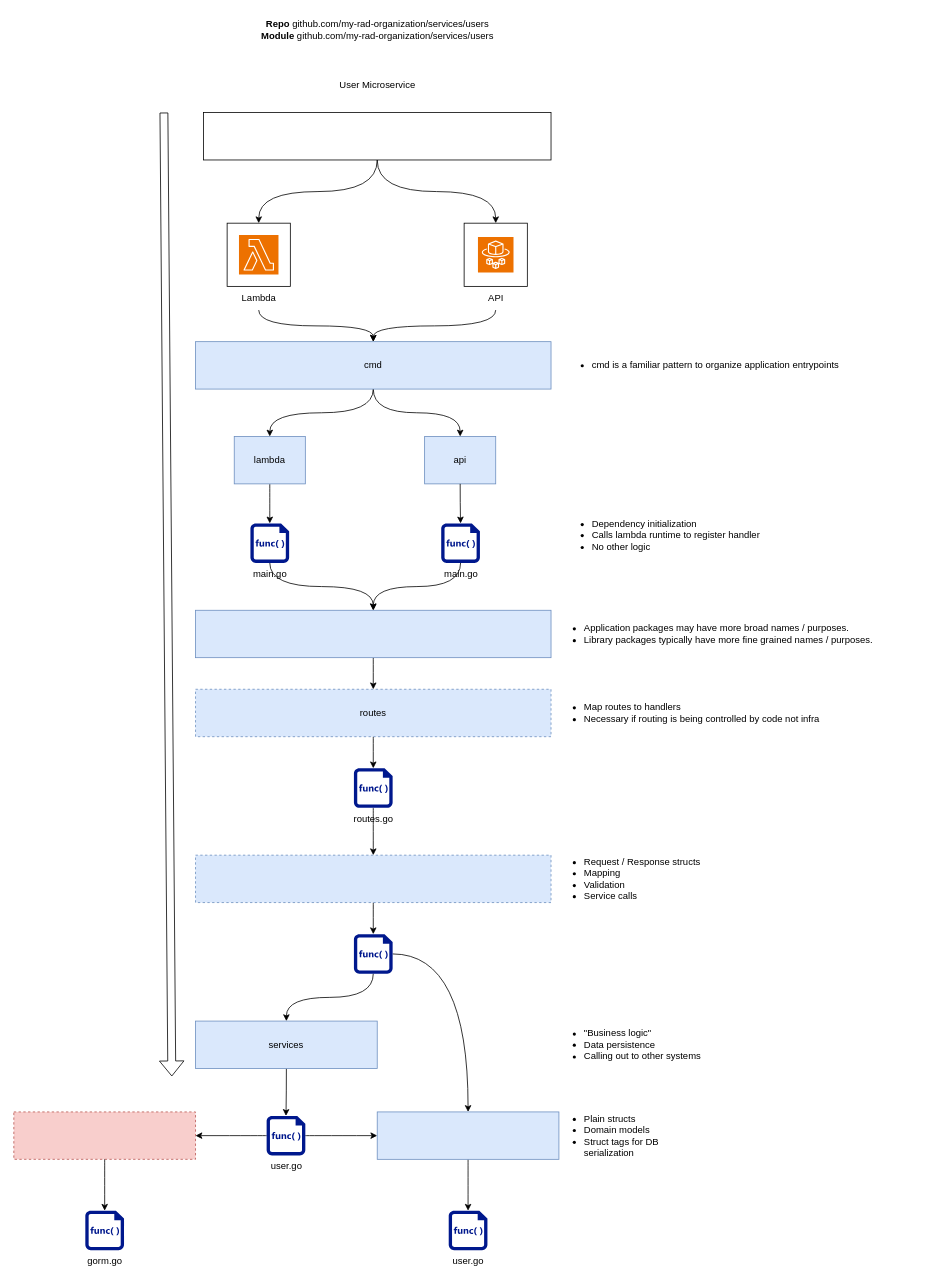
This 936x1280 diagram has some shape labels left out. The centre of each missing label's shape, as x and y in pixels:
"API Gateway" goes at (x=377, y=136).
"create_user.go" goes at (x=373, y=953).
"gorm.io/gorm" goes at (x=104, y=1135).
"handlers" goes at (x=373, y=878).
"internal" goes at (x=373, y=633).
"models" goes at (x=467, y=1135).
